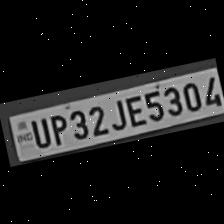0: (176, 78, 202, 112)
2: (82, 100, 108, 137)
3: (62, 105, 89, 141), (158, 82, 182, 118)
4: (196, 72, 222, 108)
5: (138, 86, 164, 123)
E: (120, 92, 146, 128)
J: (102, 95, 127, 132)
P: (44, 110, 68, 146)
U: (25, 114, 50, 150)
